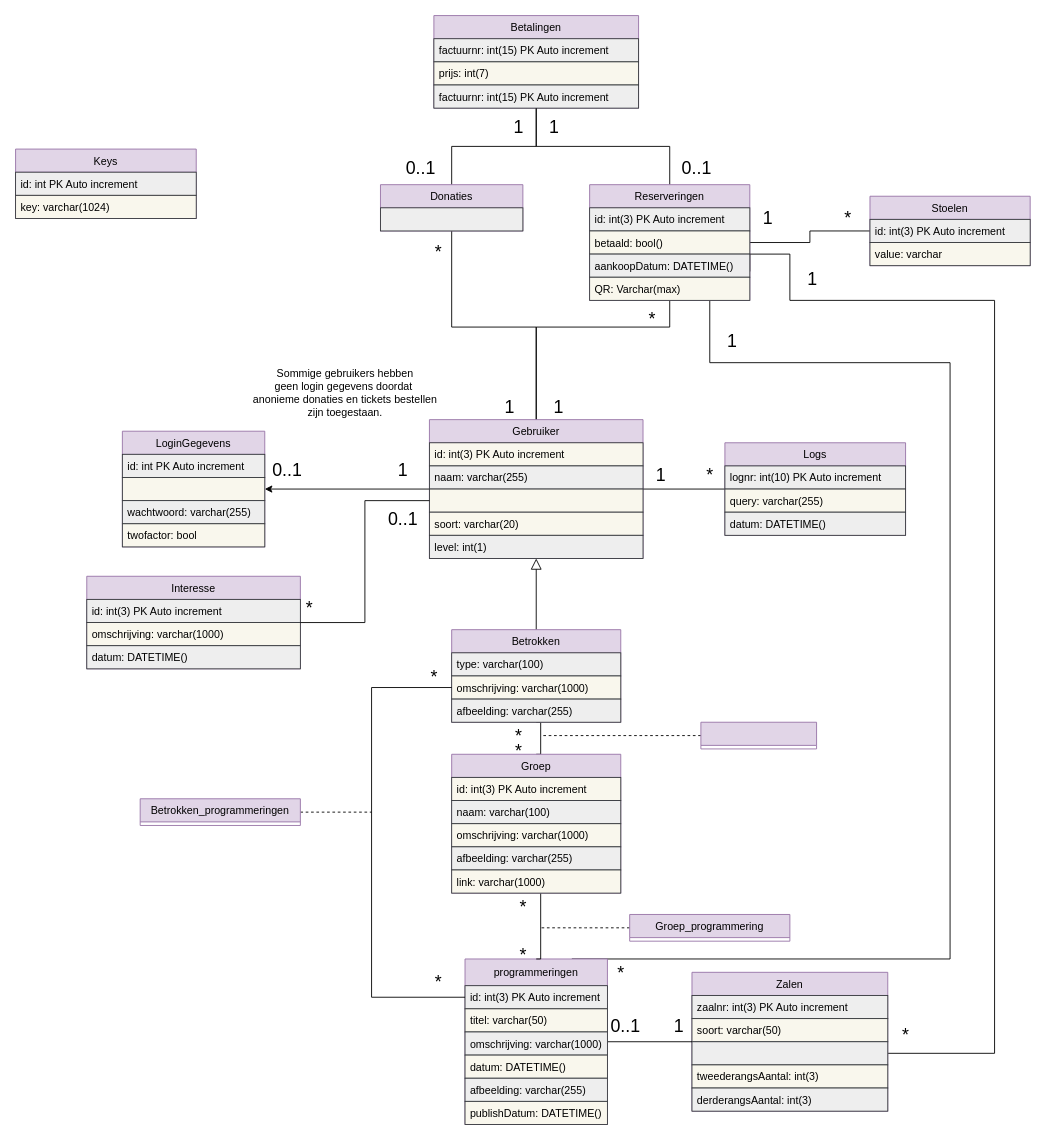
Some shapes in this 1046 by 1143 pixel diagram are drawn without their labels. The centre of each missing label's shape, as x and y in pixels:
"Betrokken_groep" belongs at point (758, 735).
"eersterangsAantal: int(3)" belongs at point (789, 1053).
"email: varchar(255)" belongs at point (193, 489).
"leeftijdsGroep: varchar(20)" belongs at point (536, 500).
"message: varchar(1000)" belongs at point (451, 219).
